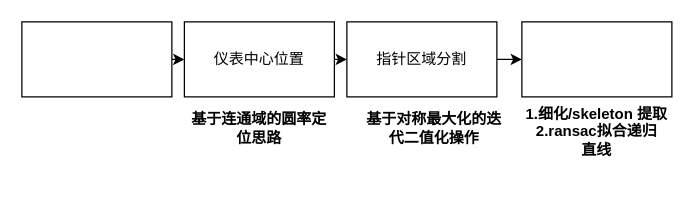
Some shapes in this 694 by 199 pixel diagram are drawn without their labels. The shapes that lost their labels are listed below. From the top down, each one's centre as x and y in pixels, then its label:
At (x=96, y=59): "仪表区域".
At (x=596, y=59): "指针识别".
